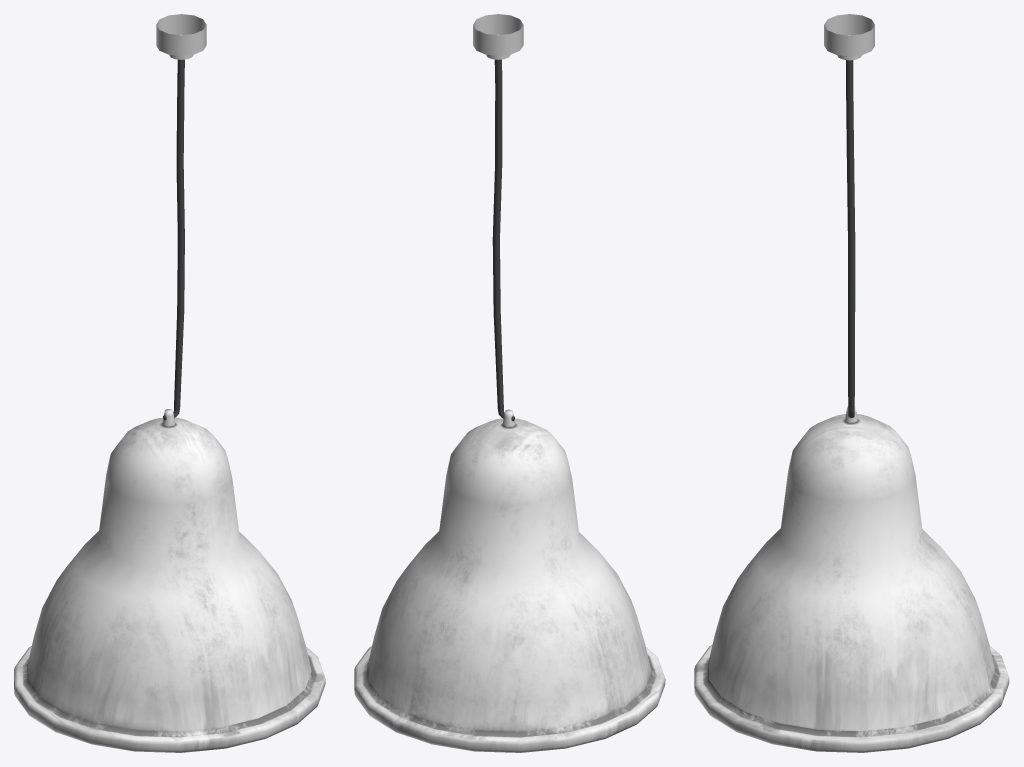
File: Hanging Lamp.fbx
3 views of the same model, side by side, from view 1: azimuth 30°, elevation 25°; view 2: azimuth 150°, elevation 25°; view 3: azimuth 270°, elevation 25° (orthographic).
Parts seen in each view (by area): view 1: SM_Light_bulb, SM_Light; view 2: SM_Light_bulb, SM_Light; view 3: SM_Light_bulb, SM_Light.
Part boxes in pixels (left/top/right/bottom): SM_Light_bulb: left=14, top=409, right=325, bottom=752; SM_Light: left=156, top=14, right=206, bottom=420; SM_Light_bulb: left=354, top=409, right=665, bottom=752; SM_Light: left=473, top=14, right=523, bottom=420; SM_Light_bulb: left=694, top=406, right=1009, bottom=752; SM_Light: left=824, top=14, right=874, bottom=417.
Bounding box in the file's own units: 76.03 × 178 × 75.81.
